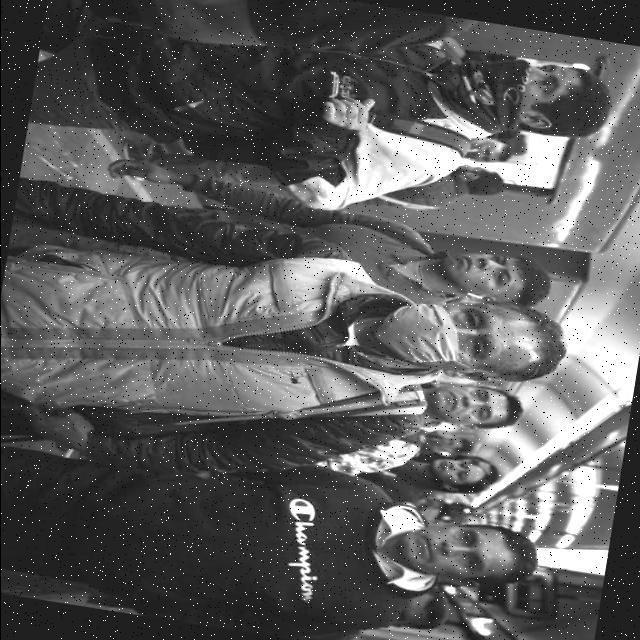mask: (390, 293, 450, 361)
no_gloves: (563, 68, 616, 138), (506, 256, 562, 306), (523, 302, 556, 377), (501, 526, 542, 586), (482, 453, 502, 489), (506, 392, 526, 428)
no_hairnet: (468, 40, 550, 121), (446, 248, 497, 298), (413, 526, 455, 582), (440, 382, 470, 422), (442, 444, 462, 488)
